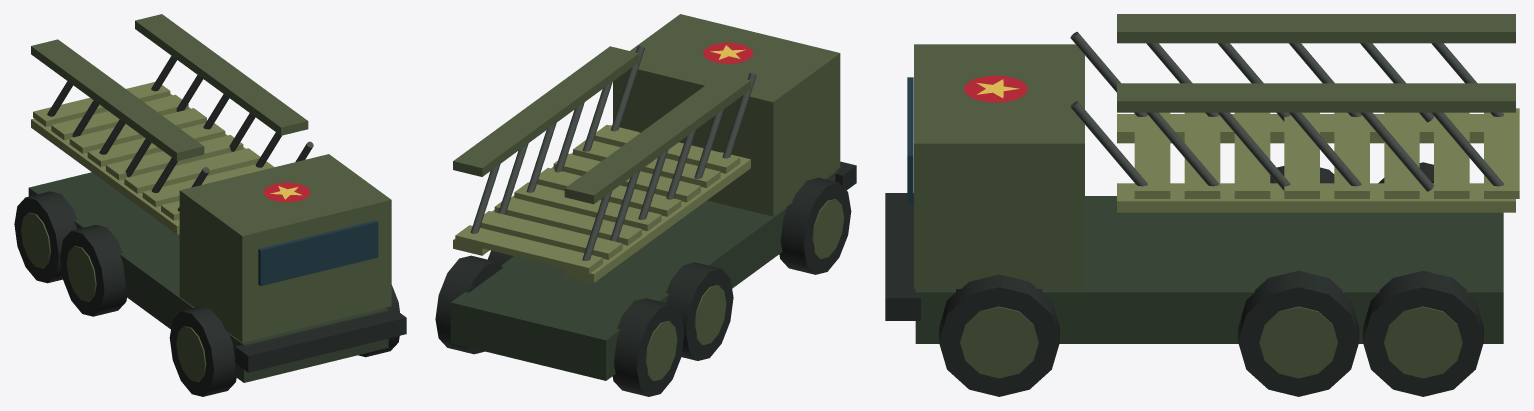
The picture shows the model from 3 angles, left to right: view 1: azimuth 30°, elevation 25°; view 2: azimuth 150°, elevation 25°; view 3: azimuth 270°, elevation 25°; orthographic projection. The views are drawn at different scales.
Parts seen in each view (by area): view 1: vietnam-E; view 2: vietnam-E; view 3: vietnam-E.
Boxes of the visible parts, box(x1,y1,x2,y2) form: vietnam-E: box(14, 14, 406, 396); vietnam-E: box(435, 14, 856, 396); vietnam-E: box(885, 14, 1519, 396).
Size of the model in its own units: 0.84 by 0.8575 by 1.78.
